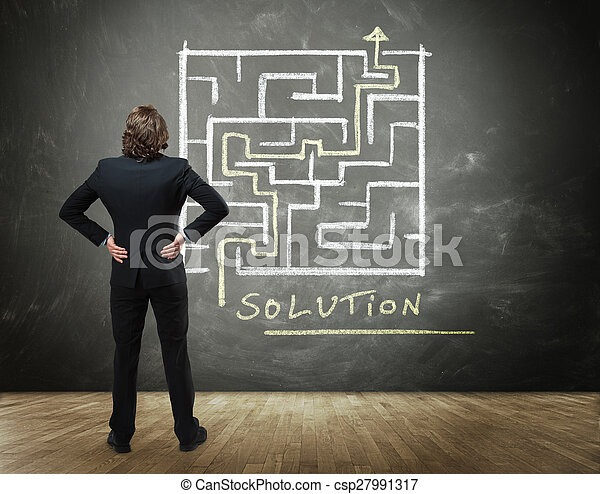maze: (213, 52, 426, 274)
